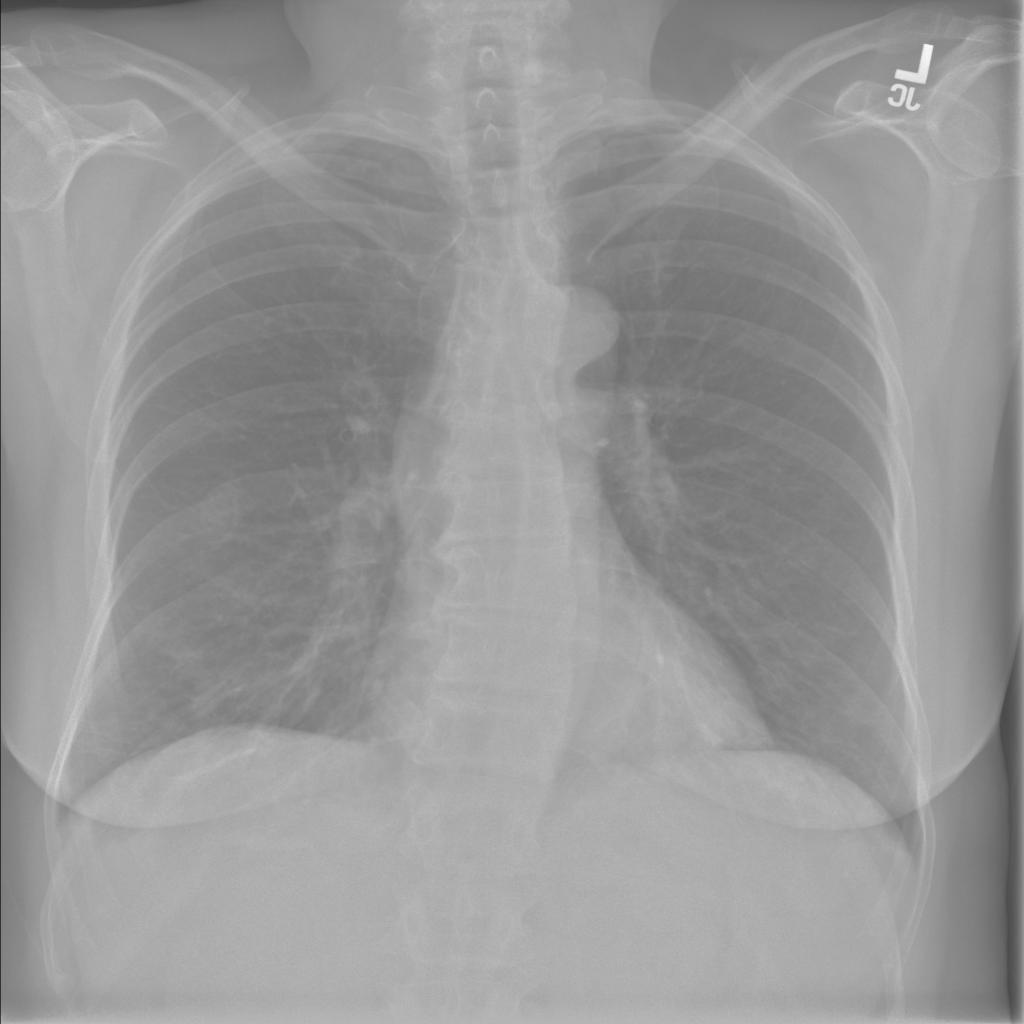Nodule: (378, 130, 409, 171)
